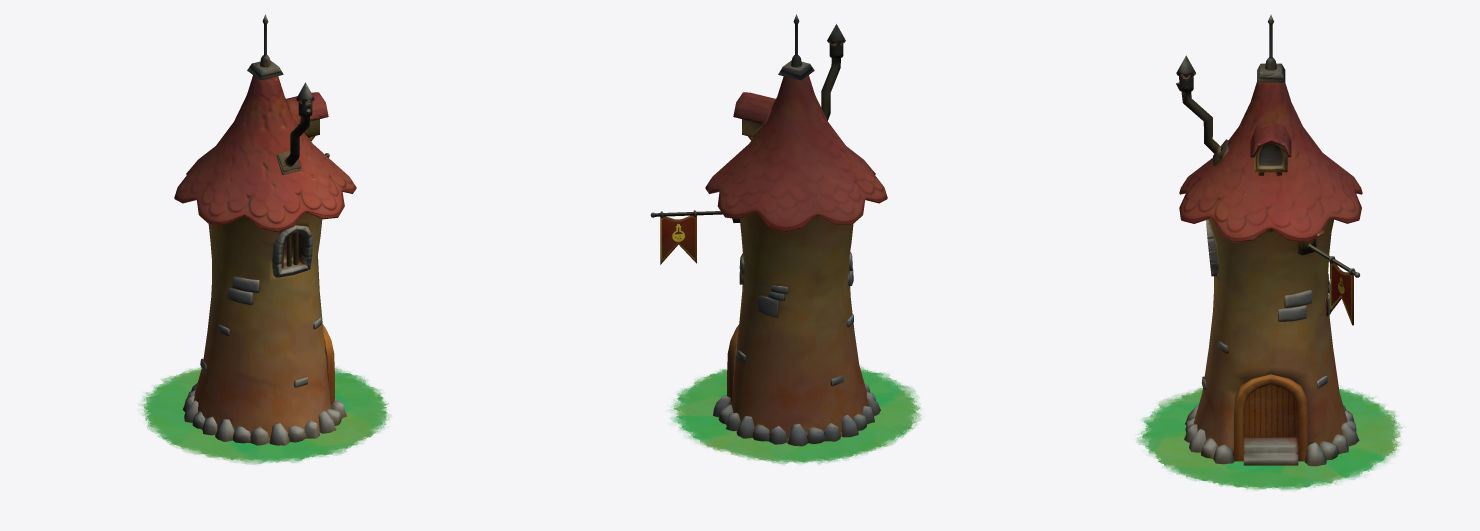
The model's file is Torre_vermelha_loja_pocoes.glb.
3 views of the same model, side by side, from view 1: azimuth 30°, elevation 25°; view 2: azimuth 150°, elevation 25°; view 3: azimuth 270°, elevation 25° (orthographic). The views are drawn at different scales.
Parts seen in each view (by area): view 1: Cylinder.001, Floor.001; view 2: Cylinder.001, Floor.001; view 3: Cylinder.001, Floor.001.
Part boxes in pixels (left/top/right/bottom): Cylinder.001: left=174, top=14, right=356, bottom=445; Floor.001: left=138, top=367, right=391, bottom=464; Cylinder.001: left=650, top=14, right=887, bottom=446; Floor.001: left=669, top=366, right=921, bottom=464; Cylinder.001: left=1176, top=14, right=1362, bottom=466; Floor.001: left=1136, top=387, right=1403, bottom=490.
Bounding box in the file's own units: 600 × 720 × 600.
Materials: 2 (2 with a texture image).
